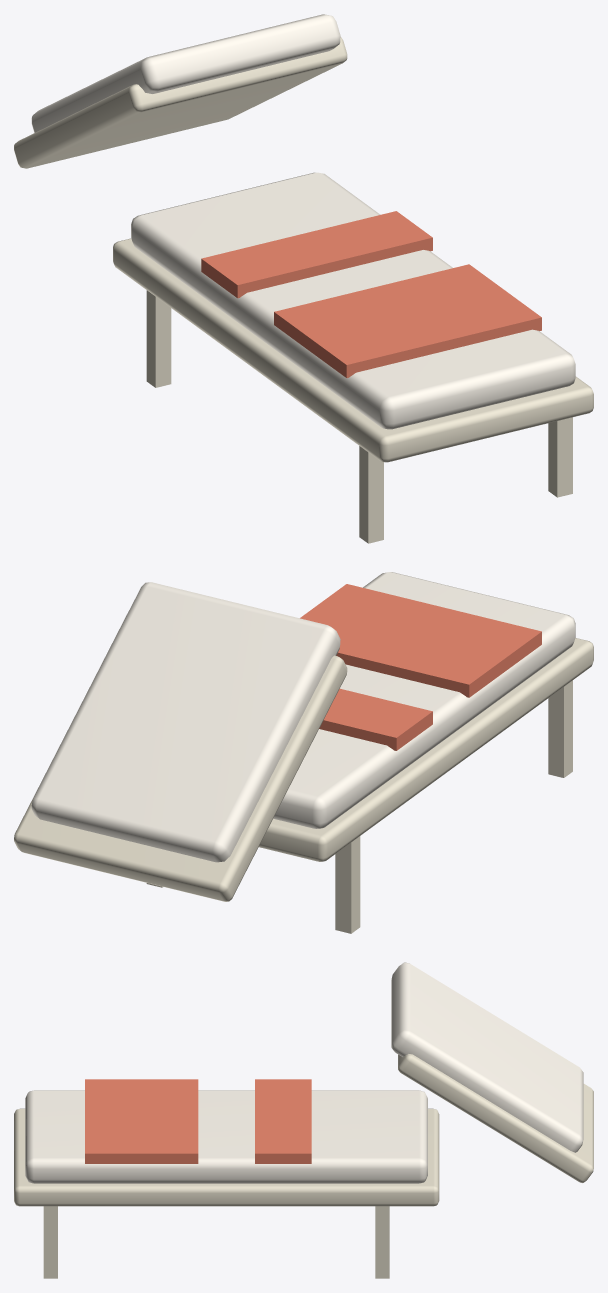
Rendered from lounger.glb.
The picture shows the model from 3 angles, top to bottom: view 1: azimuth 30°, elevation 25°; view 2: azimuth 150°, elevation 25°; view 3: azimuth 270°, elevation 25°; orthographic projection. The views are drawn at different scales.
Parts seen in each view (by area): view 1: lounger; view 2: lounger; view 3: lounger.
Boxes of the visible parts, x1=… form: lounger: x1=14, y1=14, x2=593, y2=543; lounger: x1=14, y1=572, x2=593, y2=933; lounger: x1=14, y1=962, x2=593, y2=1278.
Bounding box in the file's own units: 0.68 × 0.9473 × 2.05.
